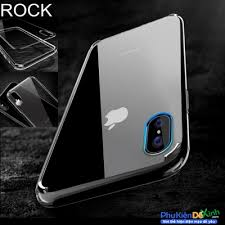iphone: (32, 13, 190, 208)
iphone10: (32, 13, 190, 208)
